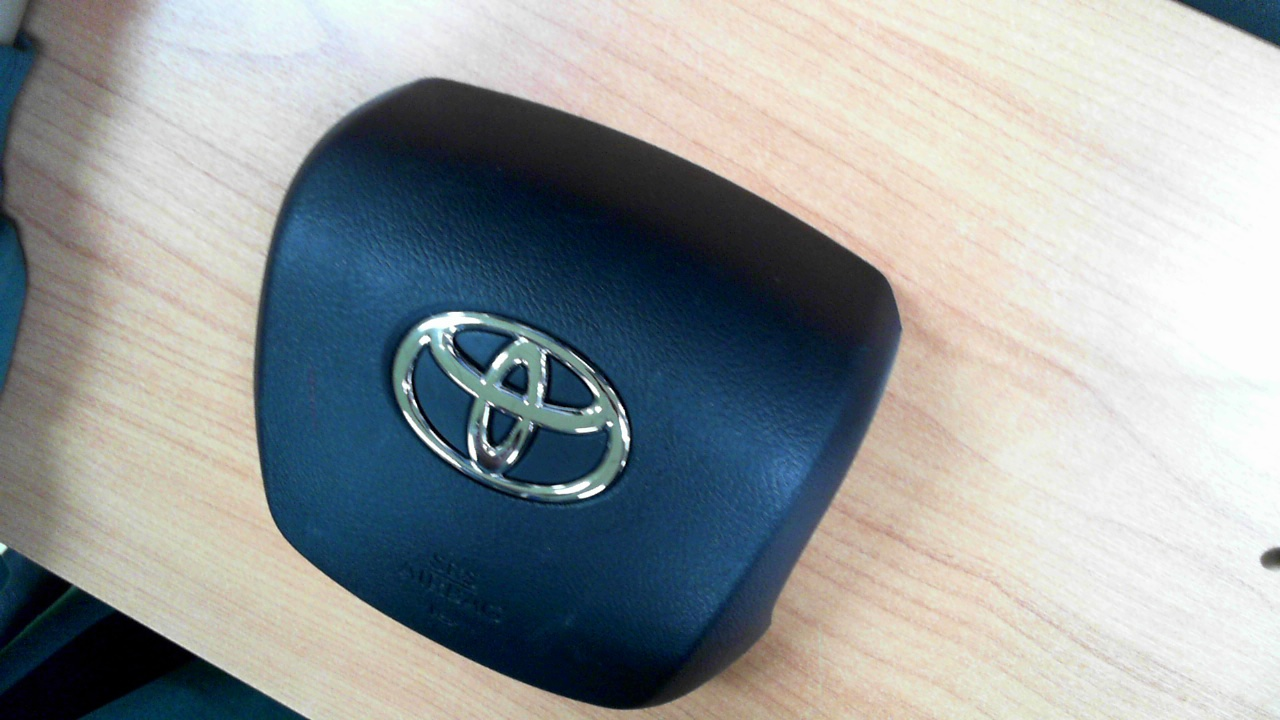Airbag: (253, 78, 901, 711)
Toyota: (392, 310, 632, 503)
